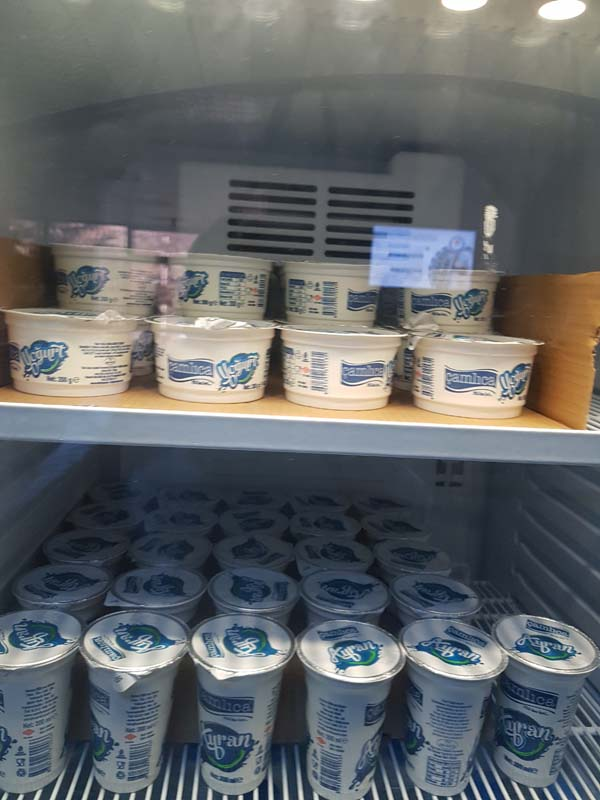camlicaayran: (182, 611, 309, 795), (489, 609, 600, 788), (79, 606, 185, 792), (390, 612, 496, 791), (289, 618, 394, 798), (1, 606, 81, 797)
camlicayogurt: (1, 304, 154, 404), (394, 323, 556, 417), (149, 311, 287, 408), (278, 318, 406, 412), (43, 237, 161, 321), (394, 257, 506, 334), (162, 241, 275, 316), (275, 252, 387, 323)
